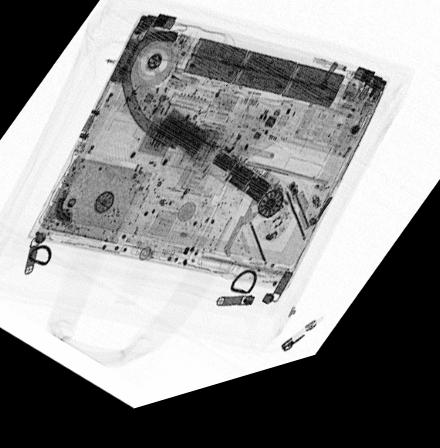Baton: (145, 110, 294, 234)
